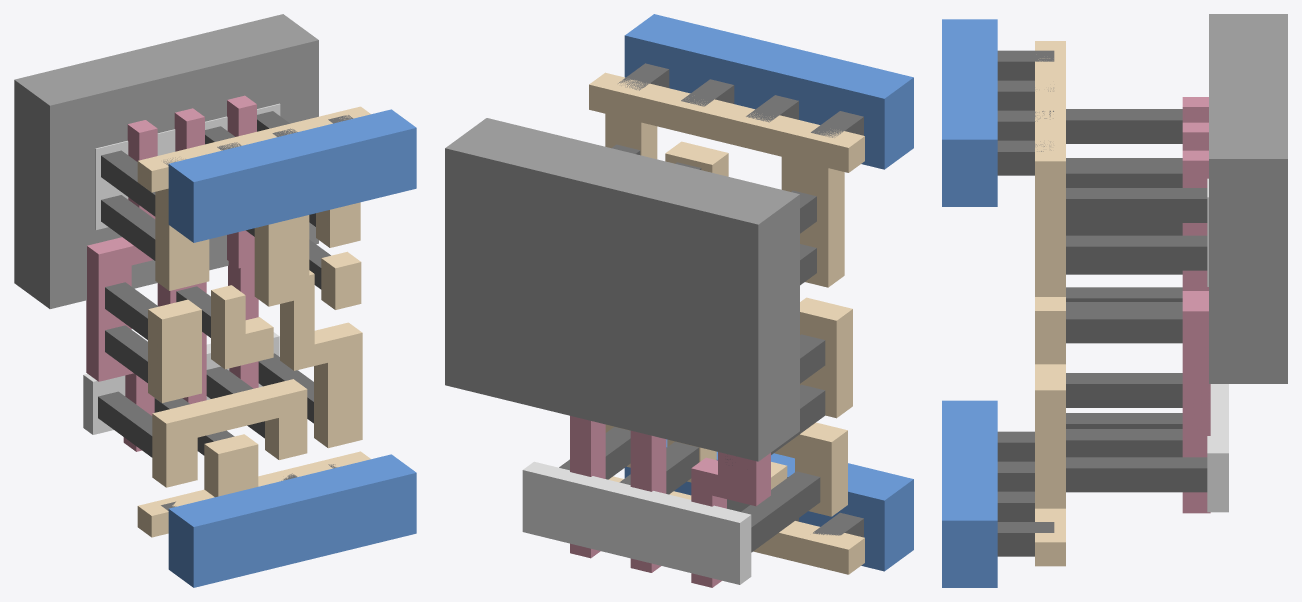
Rendered from sky130_fd_sc_hd__o21ai_0.gds.gltf.
3 views of the same model, side by side, from view 1: azimuth 30°, elevation 25°; view 2: azimuth 150°, elevation 25°; view 3: azimuth 270°, elevation 25° (orthographic). The views are drawn at different scales.
Parts seen in each view (by area): view 1: sky130_fd_sc_hd__o21ai_0_li1, sky130_fd_sc_hd__o21ai_0_met1, sky130_fd_sc_hd__o21ai_0_nwell, sky130_fd_sc_hd__o21ai_0_licon, sky130_fd_sc_hd__o21ai_0_poly, sky130_fd_sc_hd__o21ai_0_diff, sky130_fd_sc_hd__o21ai_0_mcon; view 2: sky130_fd_sc_hd__o21ai_0_nwell, sky130_fd_sc_hd__o21ai_0_li1, sky130_fd_sc_hd__o21ai_0_met1, sky130_fd_sc_hd__o21ai_0_diff, sky130_fd_sc_hd__o21ai_0_licon, sky130_fd_sc_hd__o21ai_0_poly, sky130_fd_sc_hd__o21ai_0_mcon; view 3: sky130_fd_sc_hd__o21ai_0_licon, sky130_fd_sc_hd__o21ai_0_nwell, sky130_fd_sc_hd__o21ai_0_met1, sky130_fd_sc_hd__o21ai_0_li1, sky130_fd_sc_hd__o21ai_0_mcon, sky130_fd_sc_hd__o21ai_0_poly, sky130_fd_sc_hd__o21ai_0_diff.
Boxes of the visible parts, box(x1,y1,x2,y2) form: sky130_fd_sc_hd__o21ai_0_li1: box(137, 106, 370, 537); sky130_fd_sc_hd__o21ai_0_met1: box(168, 109, 416, 587); sky130_fd_sc_hd__o21ai_0_nwell: box(14, 14, 318, 308); sky130_fd_sc_hd__o21ai_0_licon: box(98, 111, 330, 457); sky130_fd_sc_hd__o21ai_0_poly: box(86, 95, 258, 451); sky130_fd_sc_hd__o21ai_0_diff: box(83, 103, 280, 434); sky130_fd_sc_hd__o21ai_0_mcon: box(161, 115, 353, 510); sky130_fd_sc_hd__o21ai_0_nwell: box(445, 118, 799, 461); sky130_fd_sc_hd__o21ai_0_li1: box(589, 72, 864, 574); sky130_fd_sc_hd__o21ai_0_met1: box(624, 14, 913, 571); sky130_fd_sc_hd__o21ai_0_diff: box(522, 461, 751, 584); sky130_fd_sc_hd__o21ai_0_licon: box(559, 144, 825, 552); sky130_fd_sc_hd__o21ai_0_poly: box(570, 416, 770, 587); sky130_fd_sc_hd__o21ai_0_mcon: box(618, 63, 863, 537); sky130_fd_sc_hd__o21ai_0_licon: box(1066, 109, 1207, 492); sky130_fd_sc_hd__o21ai_0_nwell: box(1209, 14, 1287, 383); sky130_fd_sc_hd__o21ai_0_met1: box(942, 19, 997, 587); sky130_fd_sc_hd__o21ai_0_li1: box(1035, 41, 1065, 566); sky130_fd_sc_hd__o21ai_0_mcon: box(997, 50, 1054, 556); sky130_fd_sc_hd__o21ai_0_poly: box(1182, 97, 1210, 513); sky130_fd_sc_hd__o21ai_0_diff: box(1207, 178, 1228, 512).
Bounding box in the file's own units: 2.22 × 3.2 × 2.24.
